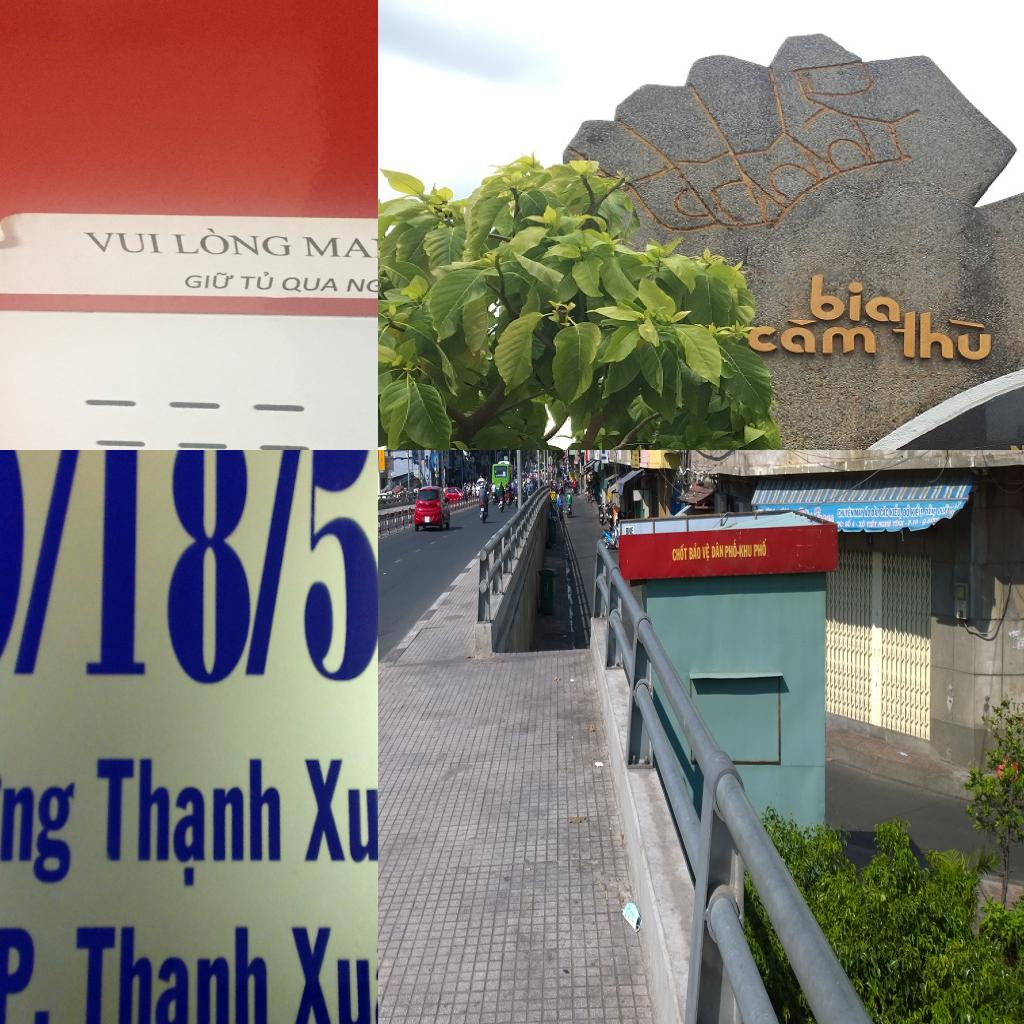text: (77, 450, 256, 684), (94, 740, 286, 890), (66, 917, 275, 1024), (8, 450, 91, 675), (303, 450, 378, 684), (240, 450, 310, 677), (0, 742, 77, 886), (294, 747, 378, 878), (285, 918, 378, 1024), (0, 919, 58, 1024), (886, 311, 998, 364), (748, 315, 880, 357), (802, 272, 902, 322), (168, 227, 294, 258), (78, 227, 166, 255), (299, 234, 378, 258), (183, 268, 241, 291), (281, 274, 338, 294), (238, 272, 274, 293), (343, 274, 378, 295), (672, 544, 688, 562), (754, 538, 768, 558), (725, 538, 737, 558), (889, 504, 903, 521), (936, 503, 953, 517), (711, 542, 724, 560), (689, 542, 701, 561), (911, 503, 924, 519), (837, 506, 854, 518), (921, 516, 940, 526), (924, 504, 937, 517), (740, 545, 752, 558), (702, 543, 710, 562), (878, 519, 892, 529), (902, 504, 911, 518), (866, 518, 878, 528), (880, 505, 889, 518), (871, 506, 880, 518), (891, 520, 905, 527), (907, 519, 919, 527), (864, 506, 871, 518), (855, 509, 864, 518), (858, 518, 866, 528), (626, 526, 634, 535), (845, 518, 852, 528), (1012, 702, 1017, 714), (837, 521, 844, 528), (868, 536, 872, 544), (851, 521, 855, 527)
